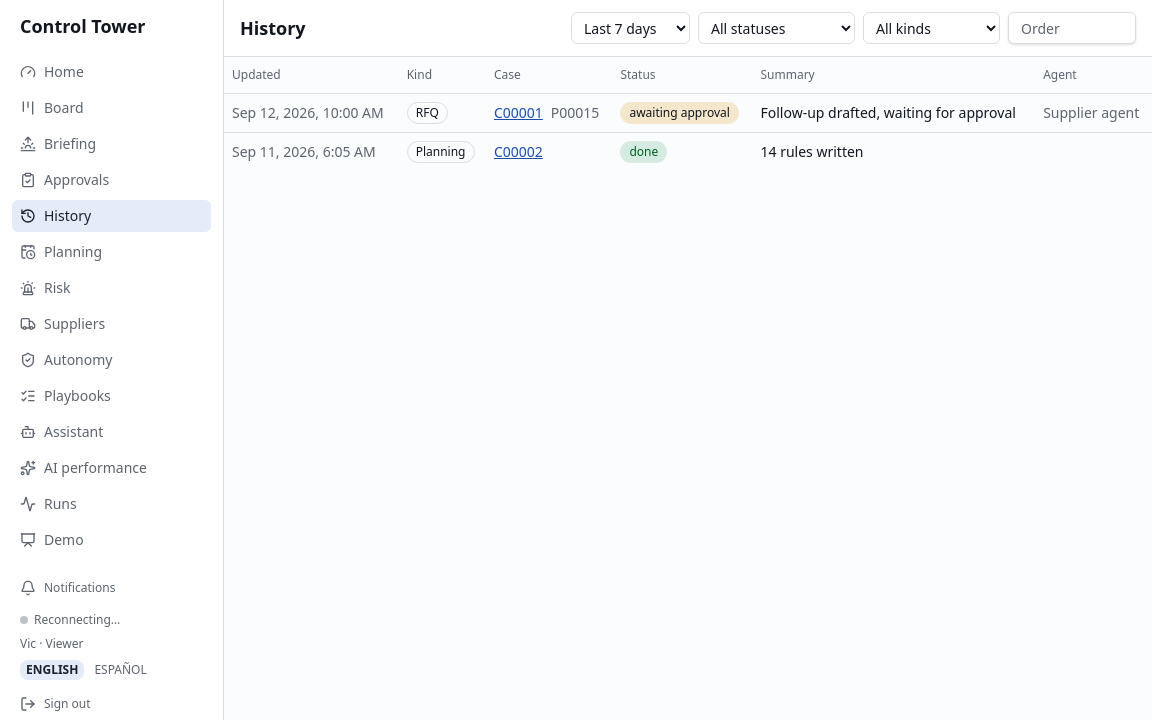
Scenario: cases › lists cases and filters by status through the URL
The width and height of the screenshot is (1152, 720).
Check: the text "14 rules written" is shown, box [752,132,1035,170]
Select "Awaiting approval" in the dropdown named "Status" at (776, 28), box [698,12,855,44]
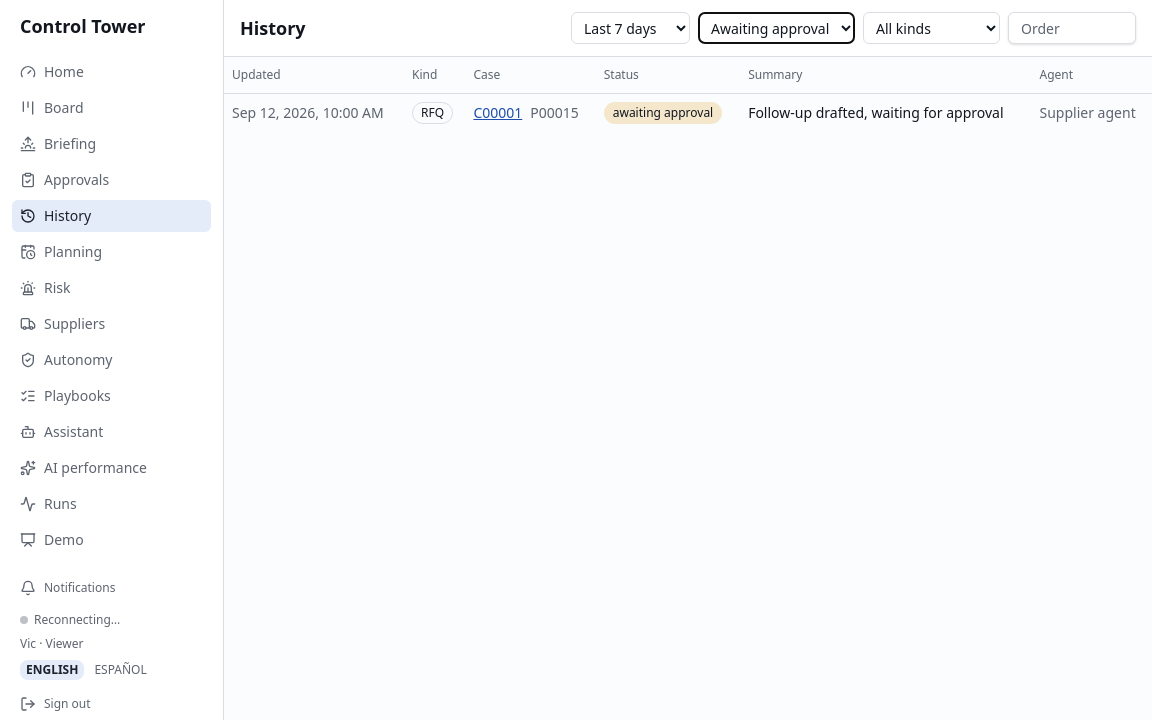
Check: the text "14 rules written" is gone
